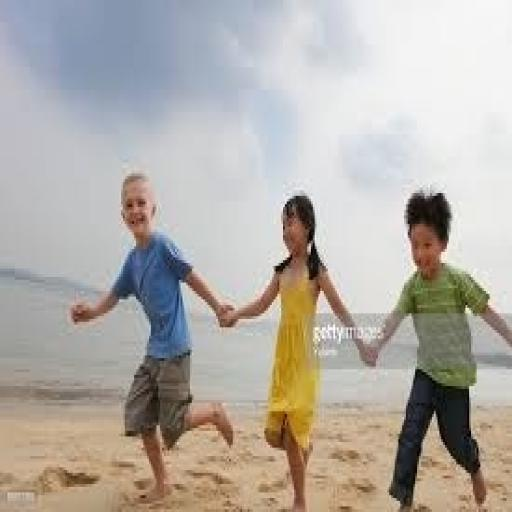running: (67, 168, 238, 503), (218, 190, 378, 509), (359, 188, 510, 509)
